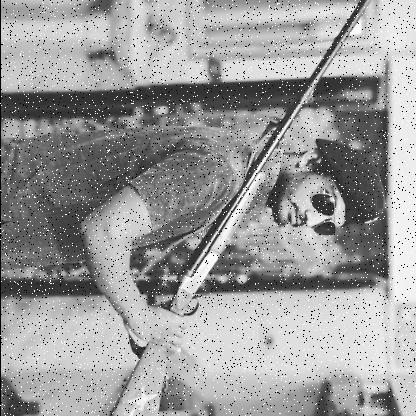rifle: (108, 0, 370, 416)
